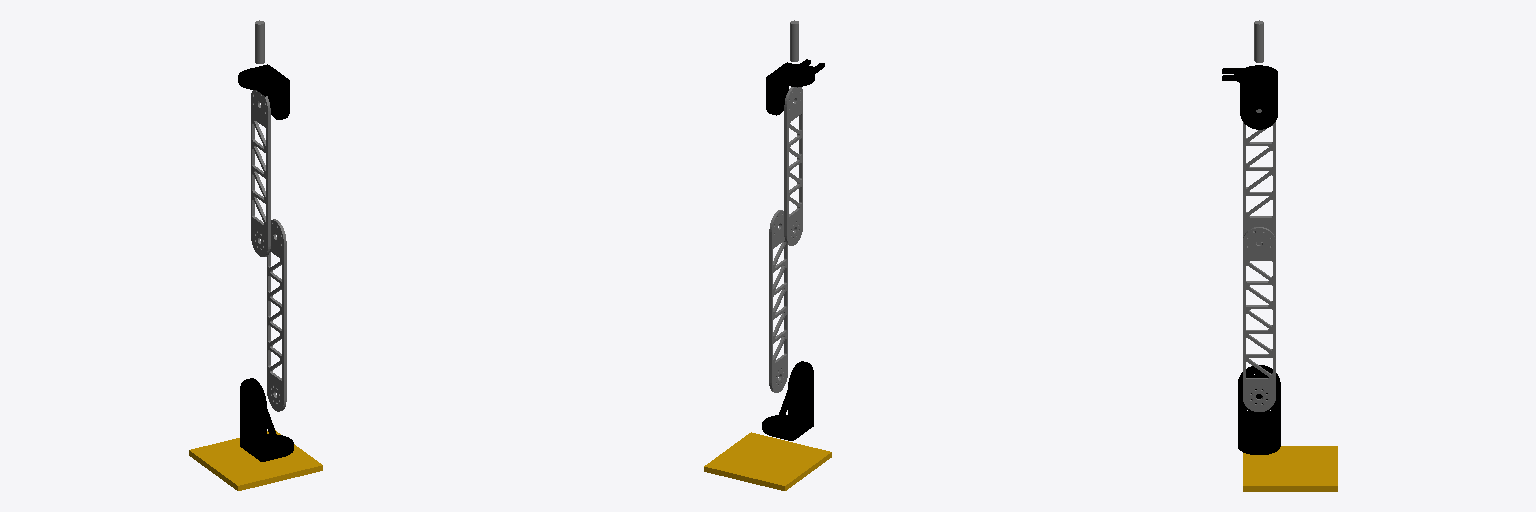
URDF robot description (fivedof):
<?xml version="1.0"?>

<robot name="fivedof">

  <!-- ******************************************************** -->
  <!-- ******************* Kinematic Chain ******************** -->
  <!-- ******************************************************** -->
  <!-- Note the 'origin' tag in the joints defines the shift and
       reorientation, i.e. the transform.  For moving joints, this
       happens before the continuous joint rotates around 'axis'. -->

  <!-- World can't take a visual element (at least in Gazebo). -->
  <link name="world"/>

  <!-- Middle of base plate in x, bottom in z-->
  <joint name="placement" type="fixed">
    <parent link="world"/>
    <child  link="baseplate"/>
    <origin xyz="0.56 0 0.0253" rpy="0 0 0"/>
    <!-- <origin xyz="0 0 0.0253" rpy="0 0 0"/> -->
  </joint>

  <!-- BASE PLATE: Shift across the base plate to the base motor. --> 
  <link name="baseplate">
    <visual>
      <origin xyz="0 0.1 0.00625" rpy="0 0 0"/> <!--Center of base plate-->
      <geometry>
	      <box size="0.2 0.2 0.0125"/>
      </geometry>
      <material name="wood"/>
    </visual>
  </link>

  <!--From bottom of baseplate to middle of basemotor in y, bottom in z-->
  <joint name="baseplate" type="fixed">
    <parent link="baseplate"/>  <!--Bottom of baseplate-->
    <child  link="basemotor"/>  <!--Bottom of basemotor-->
    <origin xyz="0 0.035 0.0125" rpy="0 0 0"/> <!--y: offset of center of motor from edge of base plate, z: baseplate thickness-->
  </joint>

  <!-- BASE MOTOR: Thickness: X5 = 31.1mm, X8 = 45.1mm -->
  <link name="basemotor">
    <visual>
      <origin xyz="0 0 0" rpy="0 0 1.5708"/>
      <geometry>
        <mesh filename="package://threedof/meshes/X8.stl"
	      scale="0.001 0.001 0.001"/>
      </geometry>
      <material name="hebi"/>
    </visual>
  </link>

  <joint name="base" type="continuous">
    <parent link="basemotor"/> <!--Bottom of basemotor-->
    <child  link="lbracket"/> <!--Top of basemotor-->
    <origin xyz="0 0 0.0451" rpy="0 0 0"/> <!--z: basemotor thickness-->
    <axis   xyz="0 0 1"/>
  </joint>

  <link name="lbracket">
    <visual>
      <origin xyz="0.04485 -0.04485 0.0" rpy="1.5708 0 3.1415"/>
      <geometry>
        <mesh filename="package://threedof/meshes/basebracket_5dof.stl"
        scale="1.0 1.0 1.0"/>
      </geometry>
      <material name="black"/>
    </visual>
  </link>

  <joint name="lbracket_shoulder" type="fixed">
    <parent link="lbracket"/> <!--Middle of basemotor-->
    <child  link="shouldermotor"/> <!--Front of shouldermotor where table edge is front-->
    <origin xyz="-0.0373 0 0.12025" rpy="0 -1.5708 3.1415"/>	  <!-- L BRACKET DIMENIONS -->
  </joint>

  <!-- TODO: fix origin -->
  <joint name="lbracket_gripper" type="fixed">
    <parent link="lbracket"/>
    <child  link="grippermotor"/>
    <origin xyz="-0.05 0 0.05" rpy="3.1415 -1.5708 -3.1415"/>
  </joint>

  <!-- Gripper motor -->
  <link name="grippermotor">
    <visual>
      <origin xyz="0 0 0" rpy="0 0 0"/>
      <geometry>
        <mesh filename="package://threedof/meshes/X5.stl"
        scale="0.001 0.001 0.001"/>
      </geometry>
      <material name="hebi"/>
    </visual>
  </link>

  <!-- SHOULDER MOTOR: Thickness: X5 = 31.1mm, X8 = 45.1mm -->
  <link name="shouldermotor">
    <visual>
      <origin xyz="0 0 0" rpy="0 0 0"/>
      <geometry>
        <mesh filename="package://threedof/meshes/X8.stl"
	      scale="0.001 0.001 0.001"/>
      </geometry>
      <material name="hebi"/>
    </visual>
  </link>
  

  <joint name="shoulder" type="continuous">
    <parent link="shouldermotor"/> <!--Front of shouldermotor-->
    <child  link="lowerarm"/> <!--Middle of shouldermotor cylinder-->
    <origin xyz="0 0 0.0451" rpy="0 0 0"/>
    <axis   xyz="0 0 1"/>
  </joint>

  <link name="lowerarm">
    <visual>
      <origin xyz="-0.035 0.035 0" rpy="1.5708 0 0"/>
      <geometry>
        <mesh filename="package://threedof/meshes/lowerarm_5dof.stl"
	      scale="1.0 1.0 1.0"/>
      </geometry>
      <material name="alum"/>
    </visual>
  </link>

  <joint name="lowerarm" type="fixed">
    <parent link="lowerarm"/>
    <child  link="elbowmotor"/>
    <origin xyz="0.3556 0 0" rpy="3.1415 0 0"/>
  </joint>

  <!-- Elbow motor.  Thickness: X5 = 31.1mm, X8 = 45.1mm -->
  <link name="elbowmotor">
    <visual>
      <geometry>
        <mesh filename="package://threedof/meshes/X5.stl"
	      scale="0.001 0.001 0.001"/>
      </geometry>
      <material name="hebi"/>
    </visual>
  </link>

  <joint name="elbow" type="continuous">
    <parent link="elbowmotor"/>
    <child  link="upperarm"/>
    <origin xyz="0 0 0.0311" rpy="0 0 0"/>
    <axis   xyz="0 0 1"/>
  </joint>

  <link name="upperarm">
    <visual>
      <origin xyz="-0.035 0.035 0.0" rpy="1.5708 0.0 0.0"/>
      <geometry>
        <mesh filename="package://threedof/meshes/upperarm_5dof.stl"
	      scale="1.0 1.0 1.0"/>
      </geometry>
      <material name="alum"/>
    </visual>
  </link>

  <joint name="upperarm" type="fixed">
    <parent link="upperarm"/>
    <child  link="wrist_tilt_motor"/>
    <origin xyz="0.3048 0 0" rpy="3.1415 0 0"/>
    <axis   xyz="0 0 1"/>
  </joint>

  <link name="wrist_tilt_motor">
    <visual>
      <geometry>
        <mesh filename="package://threedof/meshes/X5.stl"
        scale="0.001 0.001 0.001"/>
      </geometry>
      <material name="hebi"/>
    </visual>
  </link>

  <joint name="wrist_tilt" type="continuous">
    <parent link="wrist_tilt_motor"/>
    <child  link="wrist_bracket"/>
    <origin xyz="0 0 0.0438" rpy="0 0 0"/>
    <axis   xyz="0 0 1"/>
  </joint>

  <link name="wrist_bracket">
    <visual>
      <origin xyz="0.0654 -0.04 0.0" rpy="0 1.5708 1.5708"/>
      <geometry>
        <mesh filename="package://threedof/meshes/wrist_5dof.stl"
        scale="1.0 1.0 1.0"/>
      </geometry>
      <material name="black"/>
    </visual>
  </link>

  <!-- TODO: fix origin -->
  <joint name="wrist_bracket" type="fixed">
    <parent link="wrist_bracket"/>
    <child  link="wrist_roll_motor"/> 
    <origin xyz="0.065 0 -0.049" rpy="0 1.5708 0"/>
    <axis   xyz="0 0 0"/>
  </joint>

  <link name="wrist_roll_motor">
    <visual>
      <geometry>
        <mesh filename="package://threedof/meshes/X5.stl"
        scale="0.001 0.001 0.001"/>
      </geometry>
      <material name="hebi"/>
    </visual>
  </link>

  <joint name="wrist_roll" type="continuous">
    <parent link="wrist_roll_motor"/>
    <child  link="gripper_dummy"/> 
    <origin xyz="0 0 0.0311" rpy="0 0 0"/> <!--motor thickness-->
    <axis   xyz="0 0 1"/>
  </joint>

  <link name="gripper_dummy"></link>

  <joint name="gripper" type="continuous">
    <parent link="gripper_dummy"/> 
    <child  link="gripper_stick"/>
    <!-- <limit effort="1.0" lower="0" upper="0.026" velocity="0.5"/> -->
    <axis   xyz="0 0 1"/>
    <origin xyz="0 0 0" rpy="0 0 0"/>
  </joint>

  <link name="gripper_stick">
    <visual>
      <origin xyz="0 0 0.0445" rpy="0 0 0"/>
      <geometry>
        <cylinder length="0.089" radius="0.01"/>
      </geometry>
      <material name="alum"/>
    </visual>
  </link>

  <joint name="gripper_tip" type="fixed">
    <parent link="gripper_stick"/>
    <child  link="tip"/>
    <origin xyz="0 0 0.115" rpy="0 0 0"/>
  </joint>

  <!-- TIP FRAME -->
  <link name="tip"/>
  
  <!-- *************************************************** -->
  <!-- *************** Visual Link Elements ************** -->
  <!-- *************************************************** -->
  <!-- Note collada .dae files are preferred over .stl as  -->
  <!-- they specify and provide color/texture support.    -->

  <!-- Colors -->
  <material name="wood">  <color rgba="0.82 0.62 0.04 1"/>  </material>
  <material name="hebi">  <color rgba="0.82 0.06 0.06 1"/>  </material>
  <material name="alum">  <color rgba="0.5 0.5 0.5 1"/>  </material>
  <material name="black">  <color rgba="0 0 0 1"/>  </material>

  

</robot>

--- Facts derived from the render (not from the file) ---
Views: 3 orthographic renders of the robot side by side, from view 1: azimuth 30°, elevation 25°; view 2: azimuth 150°, elevation 25°; view 3: azimuth 270°, elevation 25°.
Model fivedof with 15 links and 14 joints (6 continuous, 8 fixed), rooted at world, posed all joints at 0.
Links seen in each view (by area): view 1: baseplate, lowerarm, upperarm, lbracket, wrist_bracket; view 2: baseplate, lowerarm, lbracket, upperarm, wrist_bracket; view 3: baseplate, lowerarm, lbracket, wrist_bracket, upperarm.
Boxes of the visible links, bbox=[...] form: baseplate: bbox=[189, 430, 322, 490]; lowerarm: bbox=[267, 219, 286, 411]; upperarm: bbox=[251, 90, 270, 256]; lbracket: bbox=[240, 378, 293, 461]; wrist_bracket: bbox=[238, 64, 289, 119]; baseplate: bbox=[704, 432, 831, 490]; lowerarm: bbox=[769, 210, 787, 392]; lbracket: bbox=[762, 361, 813, 440]; upperarm: bbox=[784, 87, 802, 245]; wrist_bracket: bbox=[766, 59, 824, 115]; baseplate: bbox=[1243, 446, 1337, 491]; lowerarm: bbox=[1243, 227, 1275, 411]; lbracket: bbox=[1238, 365, 1280, 454]; wrist_bracket: bbox=[1222, 65, 1277, 129]; upperarm: bbox=[1243, 109, 1275, 244].
Bounding box of the posed robot: 0.2 × 0.2431 × 1.02 m (x, y, z).
Meshes: 6 distinct files referenced, 4 mesh visuals loaded (3 binary STL, 1 ASCII STL); not drawn: 6 (file found but could not be loaded).
